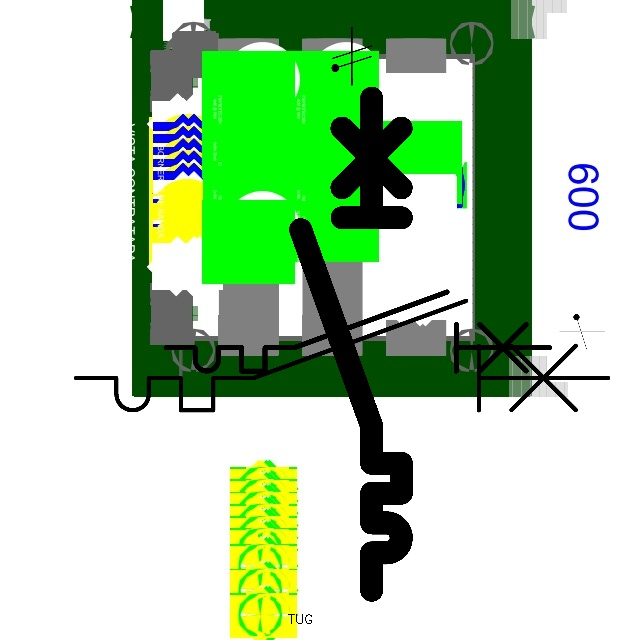interruptor_termomagnetico: (62, 287, 622, 424), (288, 85, 414, 602), (156, 282, 559, 381)
